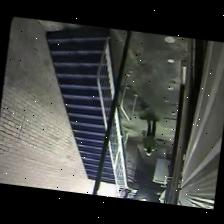person: (142, 119, 155, 155)
